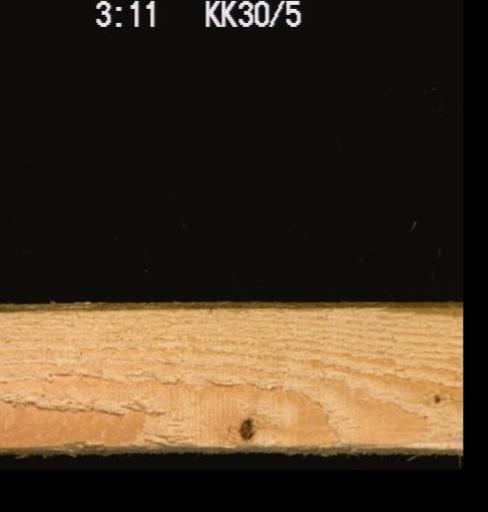dry_knot: (236, 412, 256, 441)
small_knot: (426, 389, 444, 405)
wave: (358, 301, 461, 316)
